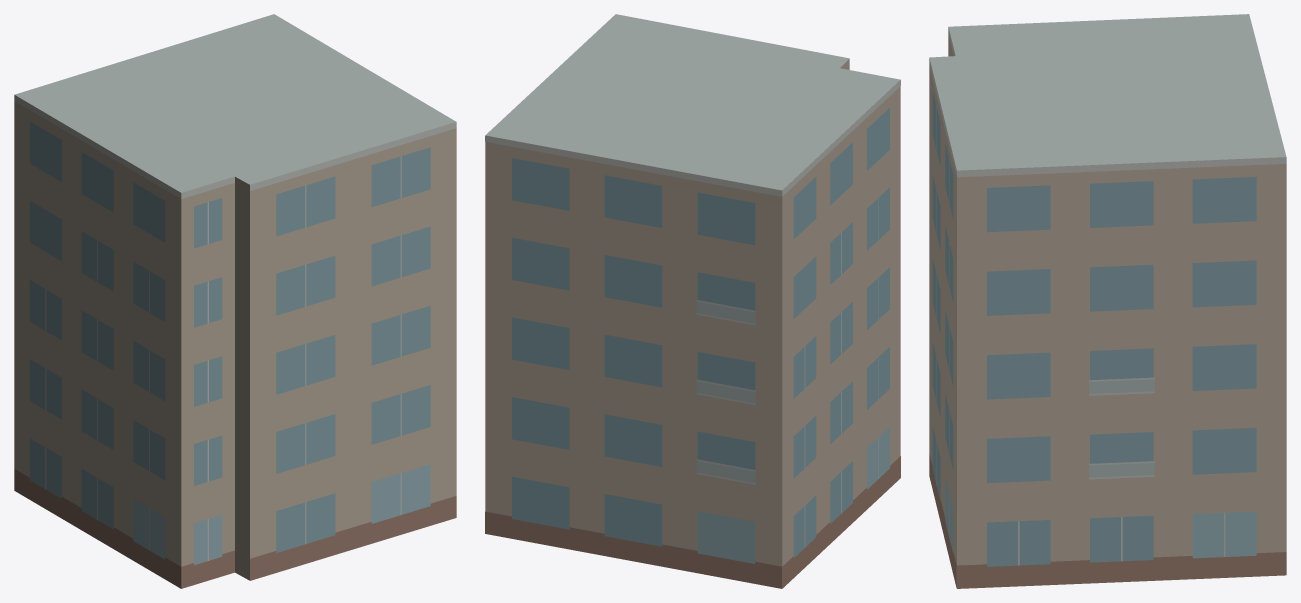
Rendered from survey-upis-32918245.glb.
The picture shows the model from 3 angles, left to right: view 1: azimuth 30°, elevation 25°; view 2: azimuth 150°, elevation 25°; view 3: azimuth 270°, elevation 25°; orthographic projection. The views are drawn at different scales.
Parts seen in each view (by area): view 1: survey-upis-32918245.tmp; view 2: survey-upis-32918245.tmp; view 3: survey-upis-32918245.tmp.
Part boxes in pixels (x1,y1,x2,y2): survey-upis-32918245.tmp: [14, 14, 456, 588]; survey-upis-32918245.tmp: [485, 14, 900, 588]; survey-upis-32918245.tmp: [929, 14, 1286, 588].
Bounding box in the file's own units: 12.3 × 15.3 × 11.85.
